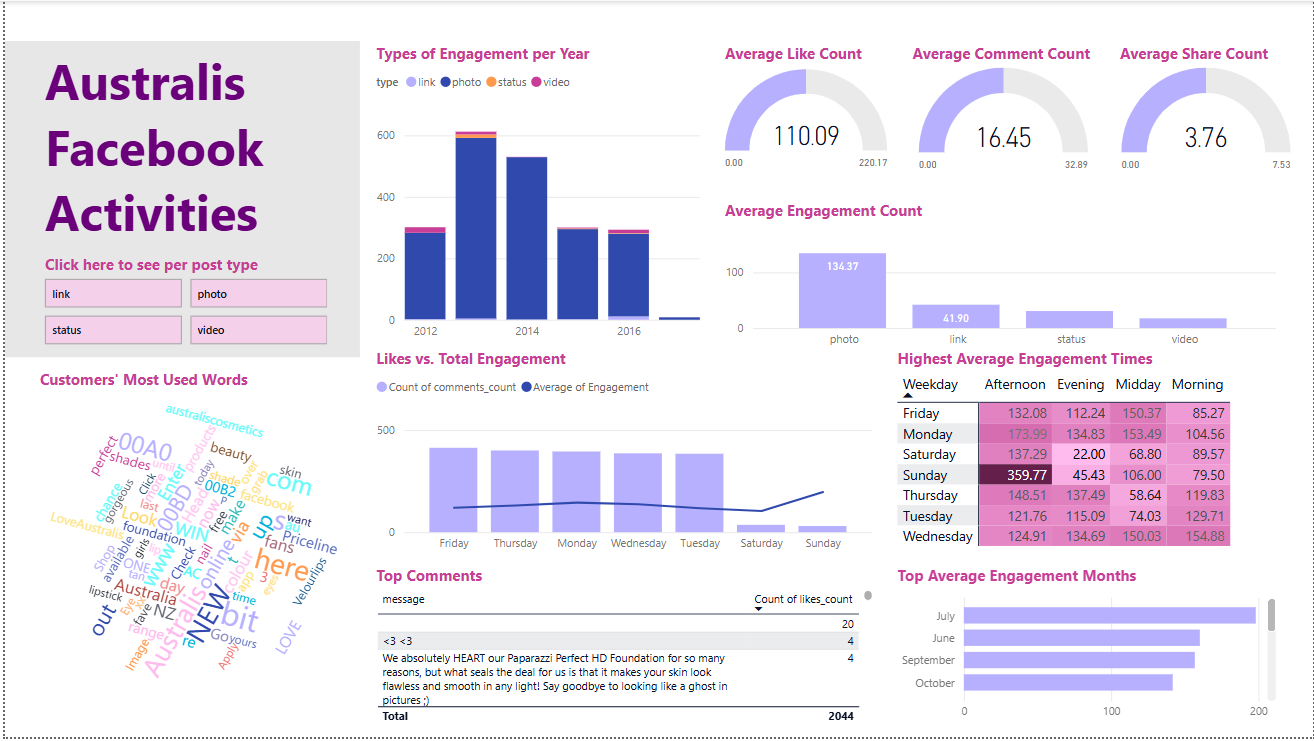

This screenshot's page, from the dashboard's own definition file:
{"tool":"powerbi","page":{"name":"Page 1","canvas":[1280,720],"ordinal":0},"visuals":[{"type":"columnChart","title":"Types of Engagement per Year","fields":{"Category":["brand_posts.Year"],"Y":["CountNonNull(brand_posts.type)"],"Series":["brand_posts.type"]},"box":[358.1,39.8,326.6,299.1],"z":0},{"type":"columnChart","title":"Average Engagement Count","fields":{"Category":["brand_posts.type"],"Y":["Avg(brand_posts.Engagement)"]},"box":[699.8,194.9,548.9,153.7],"z":1000},{"type":"lineStackedColumnComboChart","title":"Likes vs. Total Engagement","fields":{"Category":["brand_posts.Weekday"],"Y2":["Avg(brand_posts.Engagement)"],"Y":["CountNonNull(brand_posts.comments_count)"]},"box":[358.1,338.9,495.4,208.6],"z":2000},{"type":"WordCloud1447959067750","title":"Customers'' Most Used Words","fields":{"Category":["brand_posts.message"]},"box":[34.3,359.5,312.9,340.3],"z":3000},{"type":"gauge","title":"Average Like Count","fields":{"Y":["Avg(brand_posts.likes_count)"]},"box":[699.8,39.8,168.8,133.1],"z":4000},{"type":"shape","box":[0,39.1,347.3,309.4],"z":4500},{"type":"tableEx","title":"Top Comments","fields":{"Values":["brand_posts.message","CountNonNull(brand_posts.likes_count)"]},"box":[358.1,551.6,495.4,160.5],"z":5000},{"type":"textbox","box":[34.2,40.4,239.7,206.7],"z":6000},{"type":"advancedSlicerVisual","title":"Click here to see per post type","fields":{"Values":["brand_posts.type"]},"box":[34.3,247,286.8,94.7],"z":7000},{"type":"gauge","title":"Average Comment Count","fields":{"Y":["Avg(brand_posts.comments_count)"]},"box":[883,39.8,188,133.1],"z":8000},{"type":"gauge","title":"Average Share Count","fields":{"Y":["Avg(brand_posts.shares_count)"]},"box":[1085.4,39.8,178.4,133.1],"z":9000},{"type":"pivotTable","title":"Highest Average Engagement Times","fields":{"Rows":["brand_posts.Weekday"],"Values":["Avg(brand_posts.Engagement)"],"Columns":["brand_posts.TimeSlot"]},"box":[868.6,338.9,395.2,212.7],"z":10000},{"type":"clusteredBarChart","title":"Top Average Engagement Months","fields":{"Category":["brand_posts.Month"],"Y":["Avg(brand_posts.Engagement)"]},"box":[868.6,551.6,380.1,160.5],"z":11000}]}

Visuals, with their boxes in screenshot pixels (x1, y1, x2, y2), scaled from the page's 1280x720 canvas onto the 1314x741 screenshot:
"Types of Engagement per Year" columnChart: box(368, 41, 703, 349)
"Average Engagement Count" columnChart: box(718, 201, 1282, 359)
"Likes vs. Total Engagement" lineStackedColumnComboChart: box(368, 349, 876, 563)
"Customers'' Most Used Words" WordCloud1447959067750: box(35, 370, 356, 720)
"Average Like Count" gauge: box(718, 41, 892, 178)
shape: box(0, 40, 357, 359)
"Top Comments" tableEx: box(368, 568, 876, 733)
textbox: box(35, 42, 281, 254)
"Click here to see per post type" advancedSlicerVisual: box(35, 254, 330, 352)
"Average Comment Count" gauge: box(906, 41, 1099, 178)
"Average Share Count" gauge: box(1114, 41, 1297, 178)
"Highest Average Engagement Times" pivotTable: box(892, 349, 1297, 568)
"Top Average Engagement Months" clusteredBarChart: box(892, 568, 1282, 733)
